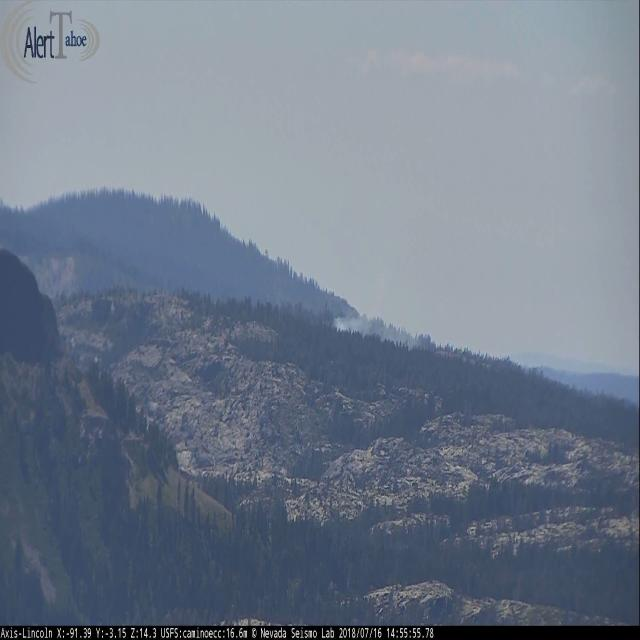smoke: (336, 314, 416, 350)
